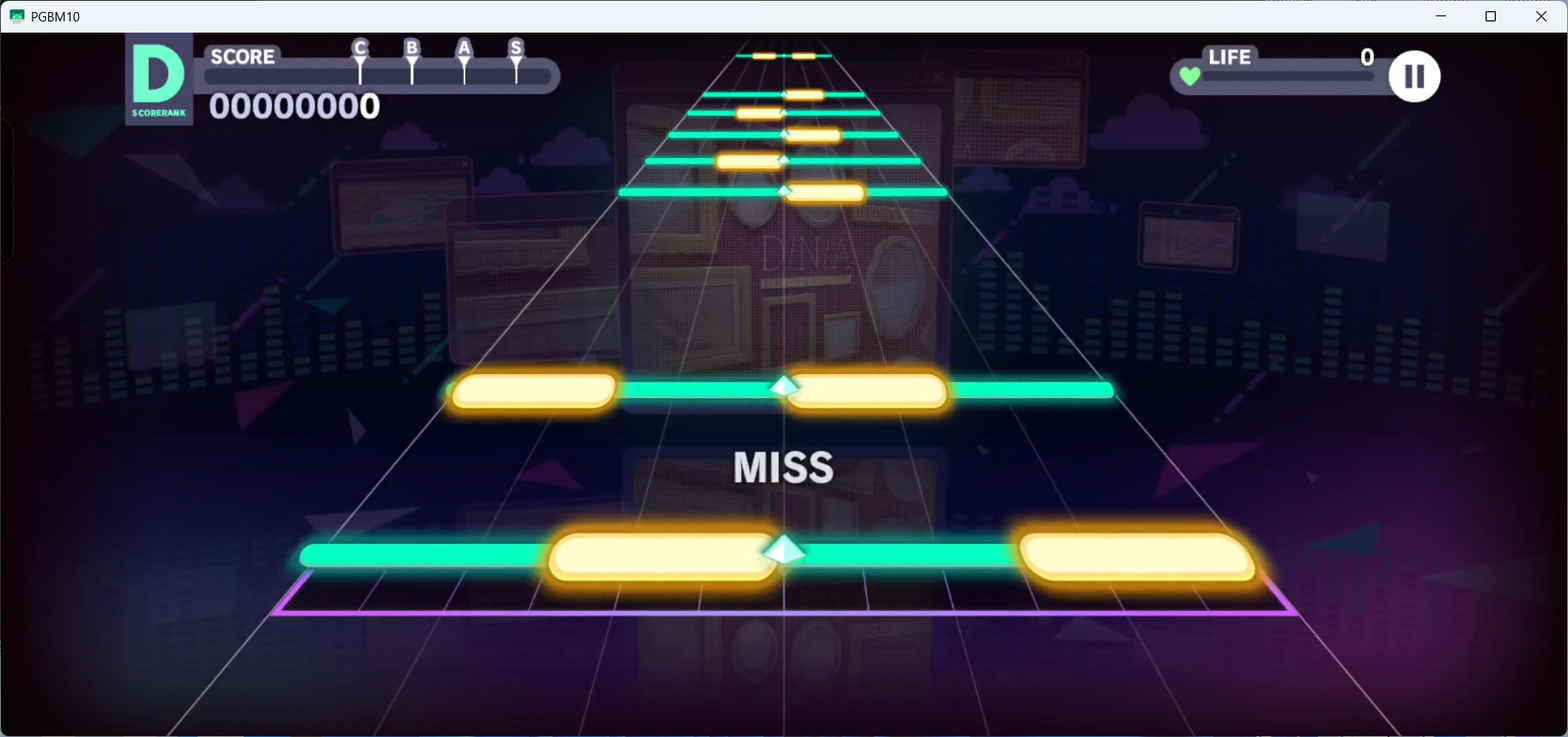sweep: (301, 535, 1252, 568), (447, 374, 1115, 399), (618, 182, 946, 197), (645, 154, 921, 166), (667, 129, 898, 138), (687, 107, 881, 116), (784, 183, 864, 201), (702, 89, 865, 97), (735, 53, 832, 57)
tap: (1018, 534, 1255, 581), (549, 531, 776, 580), (787, 374, 947, 410), (450, 374, 617, 408), (716, 154, 782, 170), (784, 128, 842, 142), (736, 107, 782, 119), (783, 89, 824, 100), (791, 52, 816, 59), (752, 53, 776, 59)
